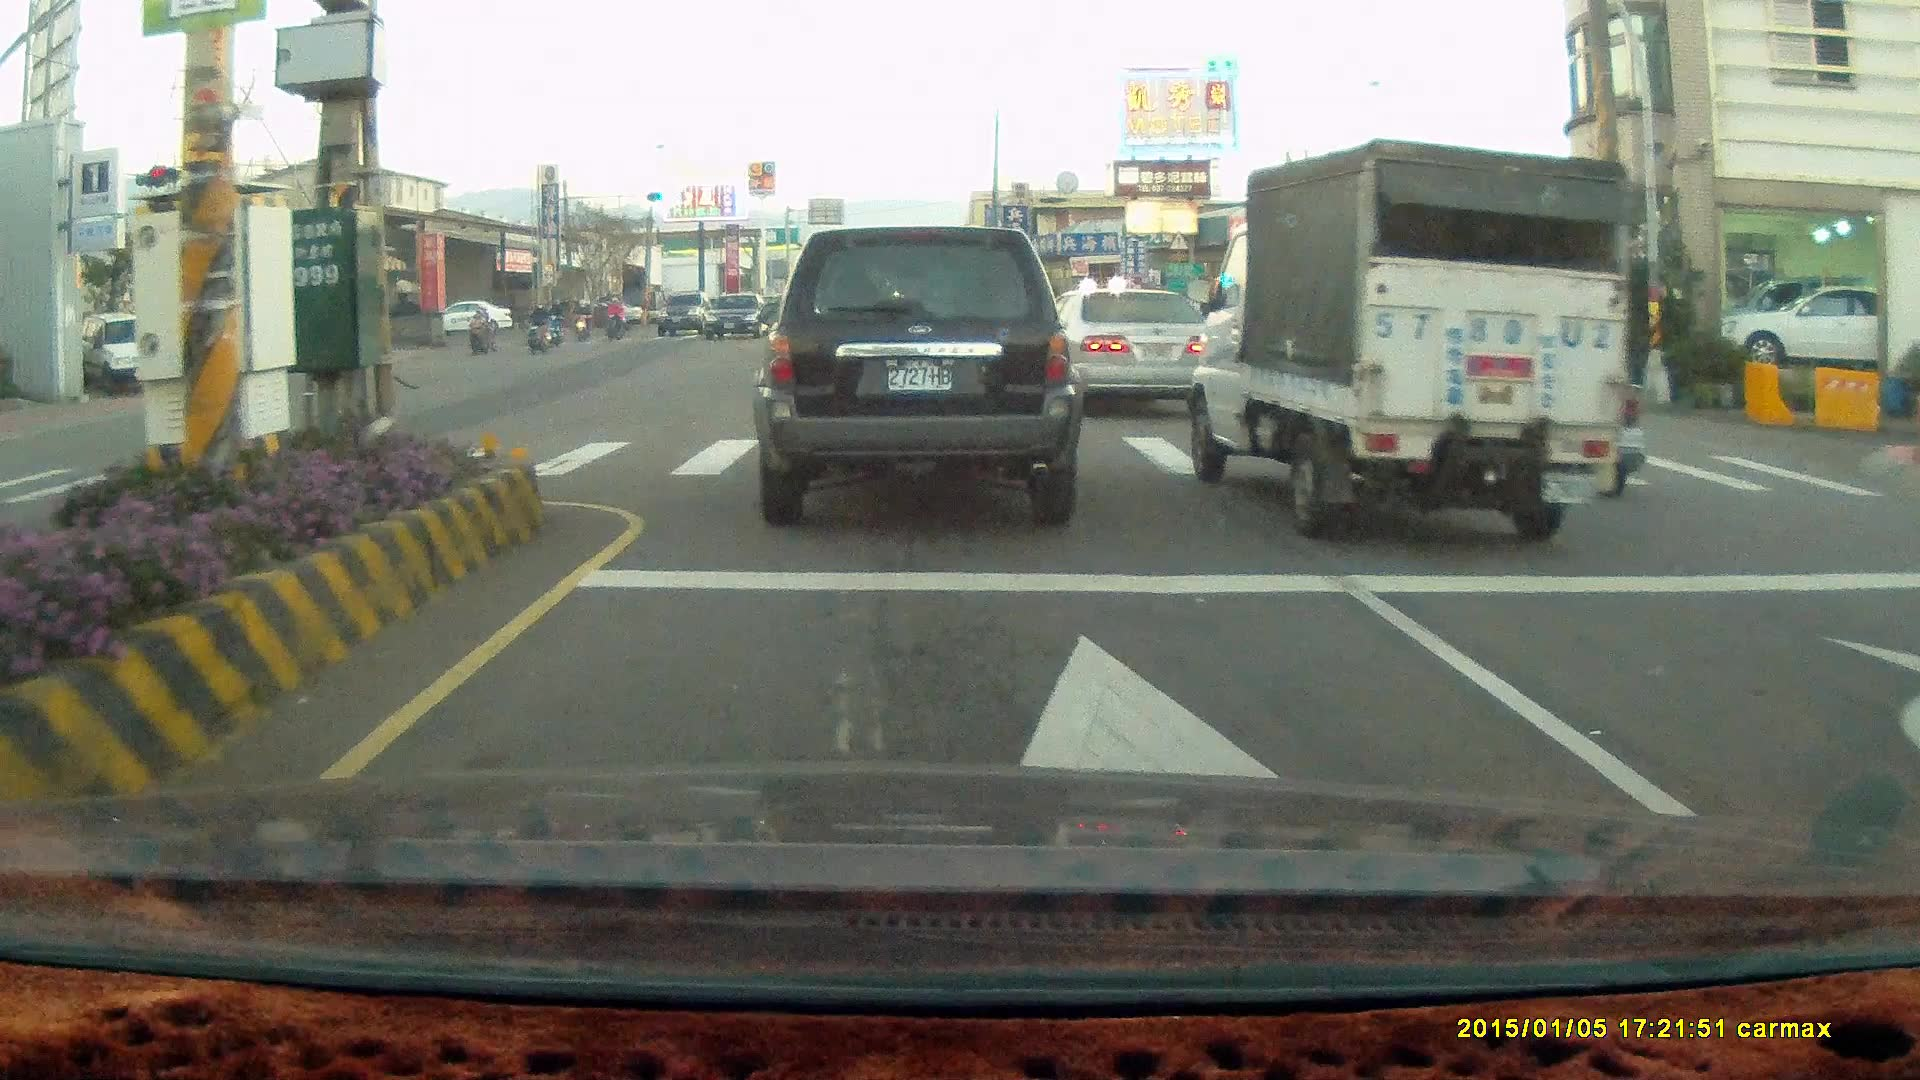rider: (463, 301, 499, 356), (523, 303, 552, 357), (543, 295, 567, 349), (571, 295, 594, 339), (604, 297, 624, 338)
vehicle: (1190, 137, 1633, 544), (750, 224, 1085, 530), (1031, 287, 1220, 415), (1055, 288, 1225, 424), (1714, 282, 1918, 376), (1727, 286, 1881, 374), (65, 314, 174, 391), (701, 293, 772, 344), (443, 301, 515, 339)
